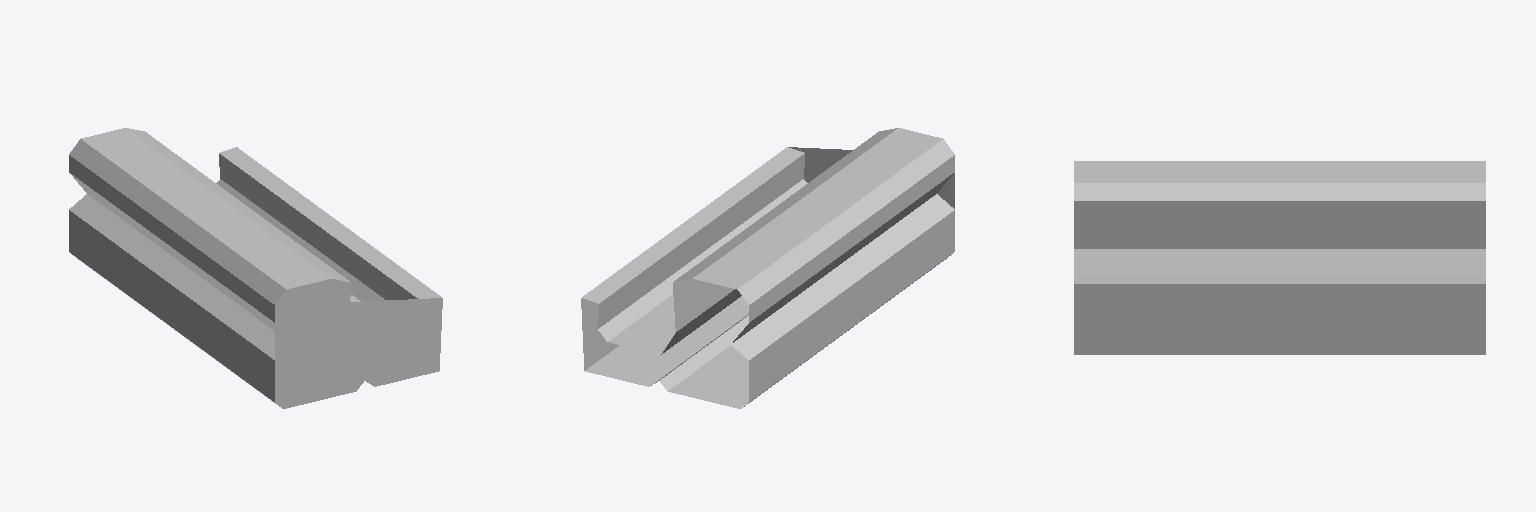
Rendered from building-74.obj.
3 renders of one model, left to right at view 1: azimuth 30°, elevation 25°; view 2: azimuth 150°, elevation 25°; view 3: azimuth 270°, elevation 25°, orthographic.
Size of the model in its own units: 30.28 by 20.5 by 64.35.